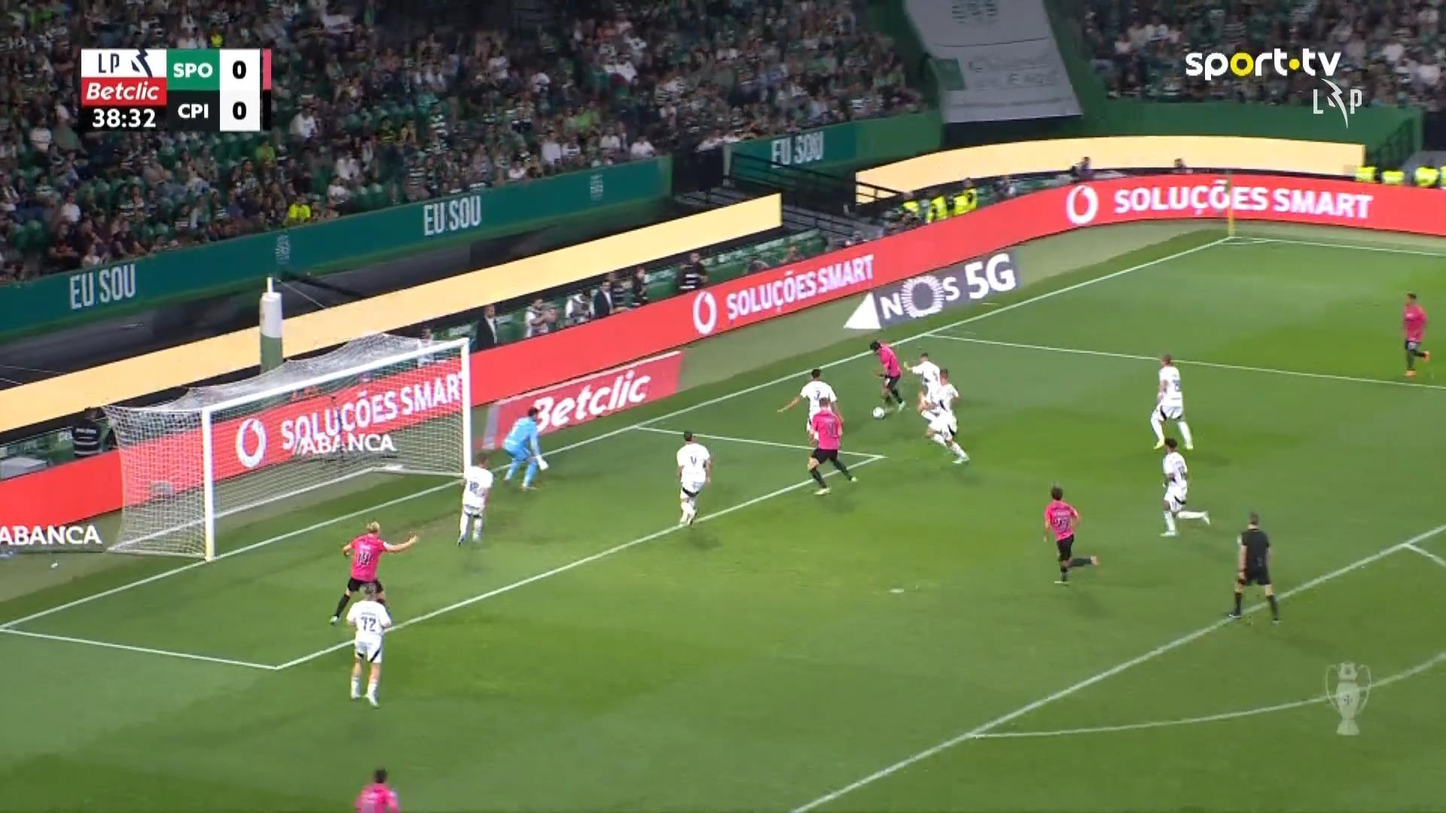ball: (871, 406, 884, 419)
goalkeeper: (500, 405, 548, 491)
player: (328, 519, 418, 625), (345, 579, 392, 708), (1041, 485, 1098, 585), (805, 395, 858, 495), (1158, 437, 1210, 537), (917, 367, 969, 464), (777, 366, 842, 437), (1149, 352, 1194, 450), (455, 450, 493, 547), (675, 429, 712, 528), (868, 338, 906, 416), (903, 351, 942, 416), (1401, 291, 1430, 376), (353, 766, 400, 811)
referee: (1225, 510, 1281, 624)
